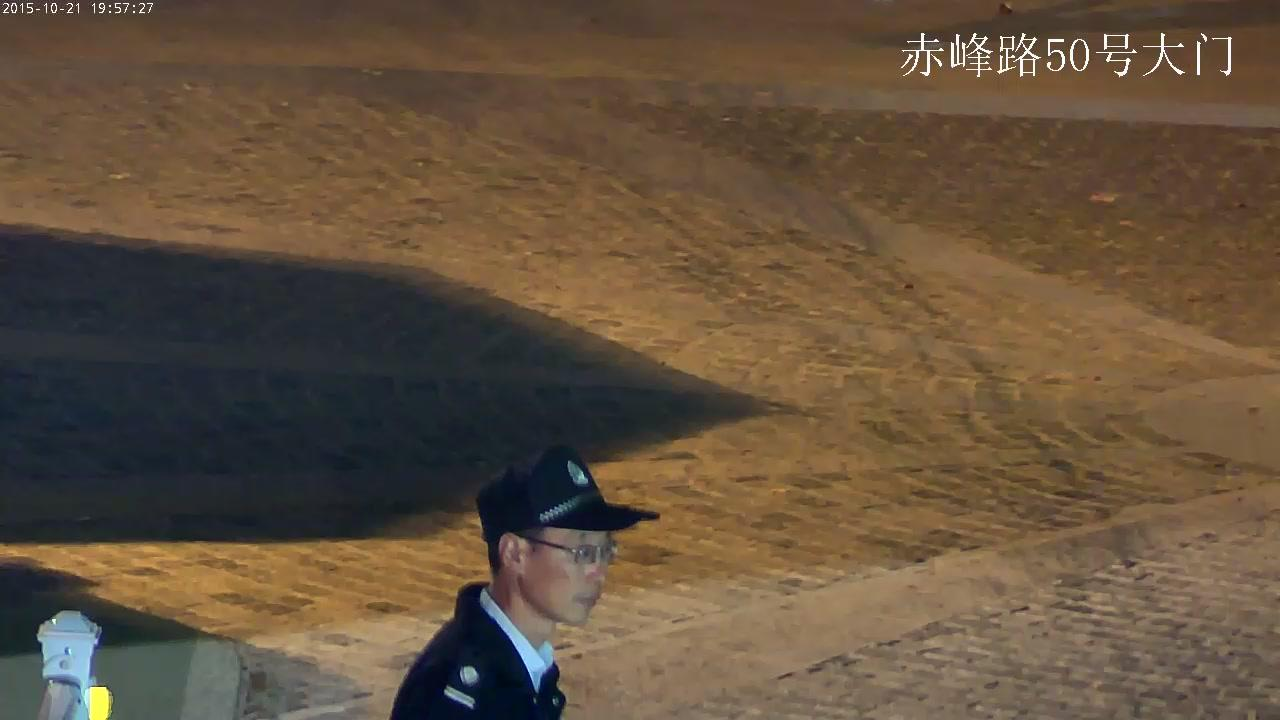face: (526, 530, 608, 624)
